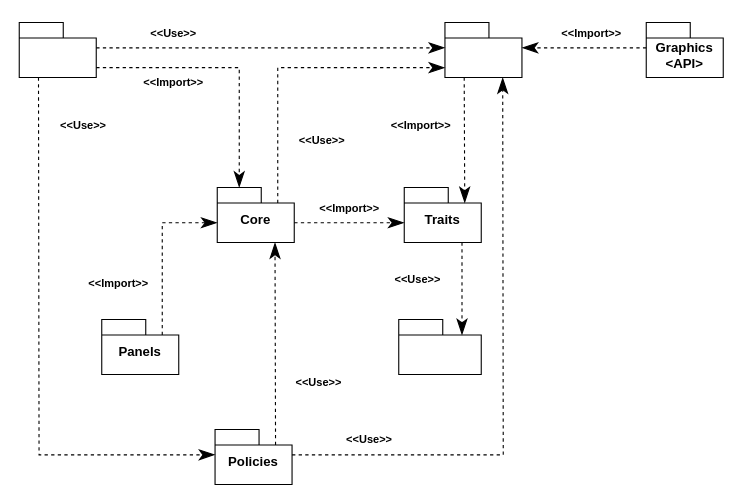
Image size: 743x504. Some labels were removed from this diagram. The shapes that lost their labels are listed below. From the top down, each one's centre as x and y in pixels, then its label:
At point 57,49: "Controls".
At point 483,49: "Graphics".
At point 439,346: "Linear Algebra".
